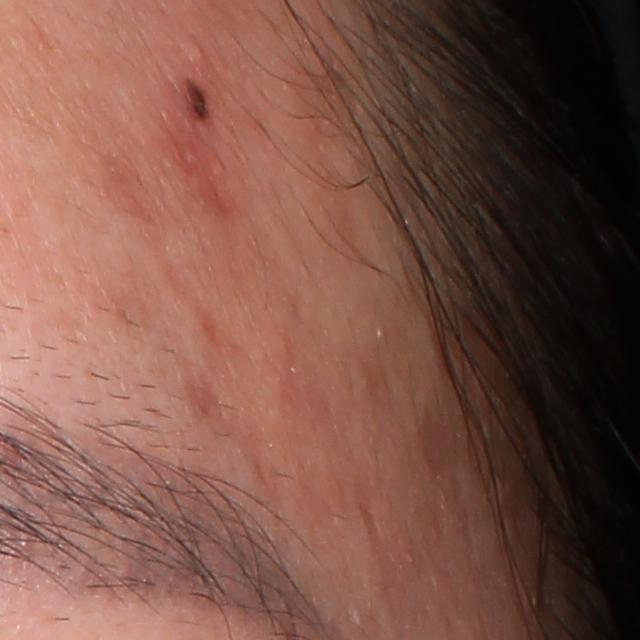nevus: (178, 71, 217, 127)
